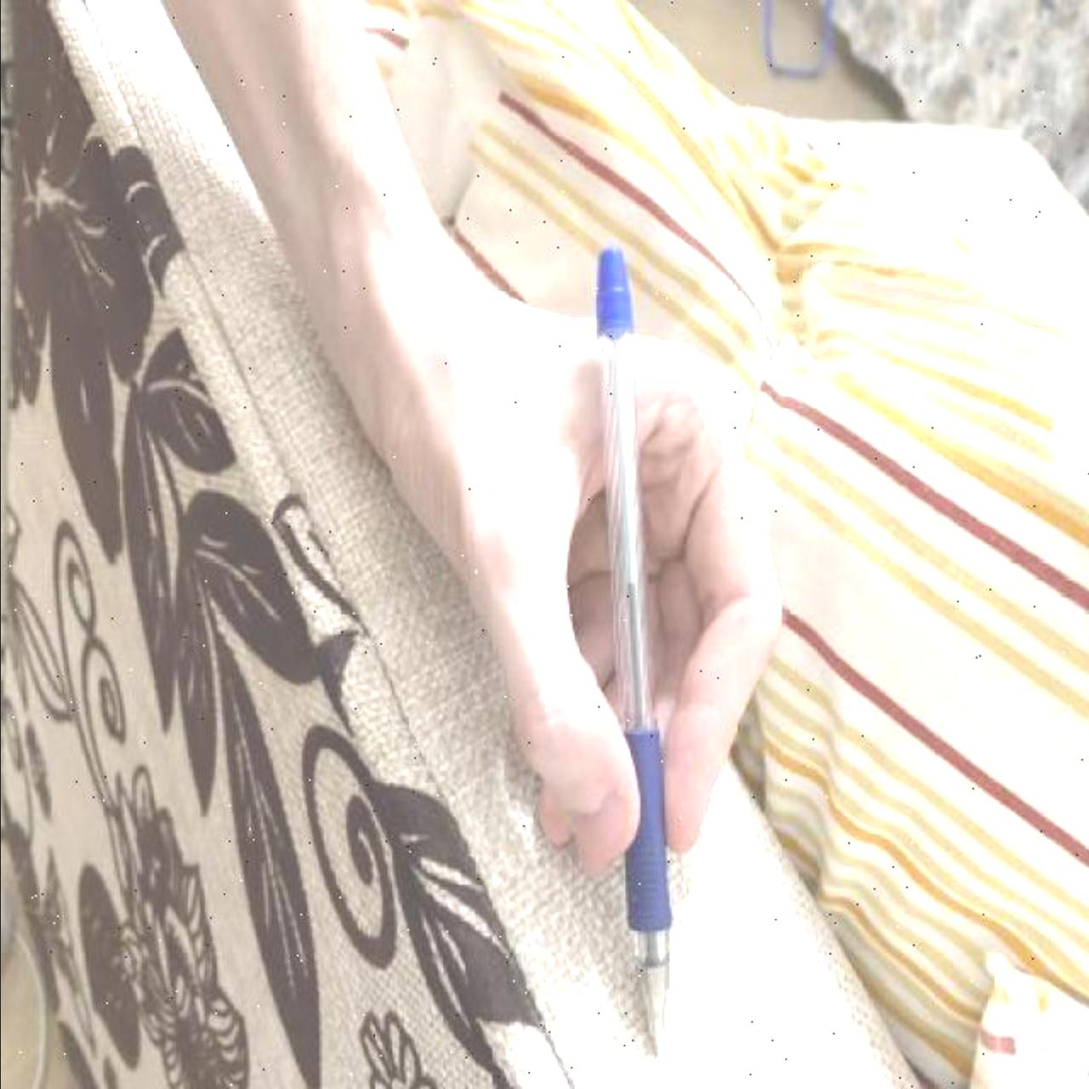pen: (592, 245, 674, 1053)
